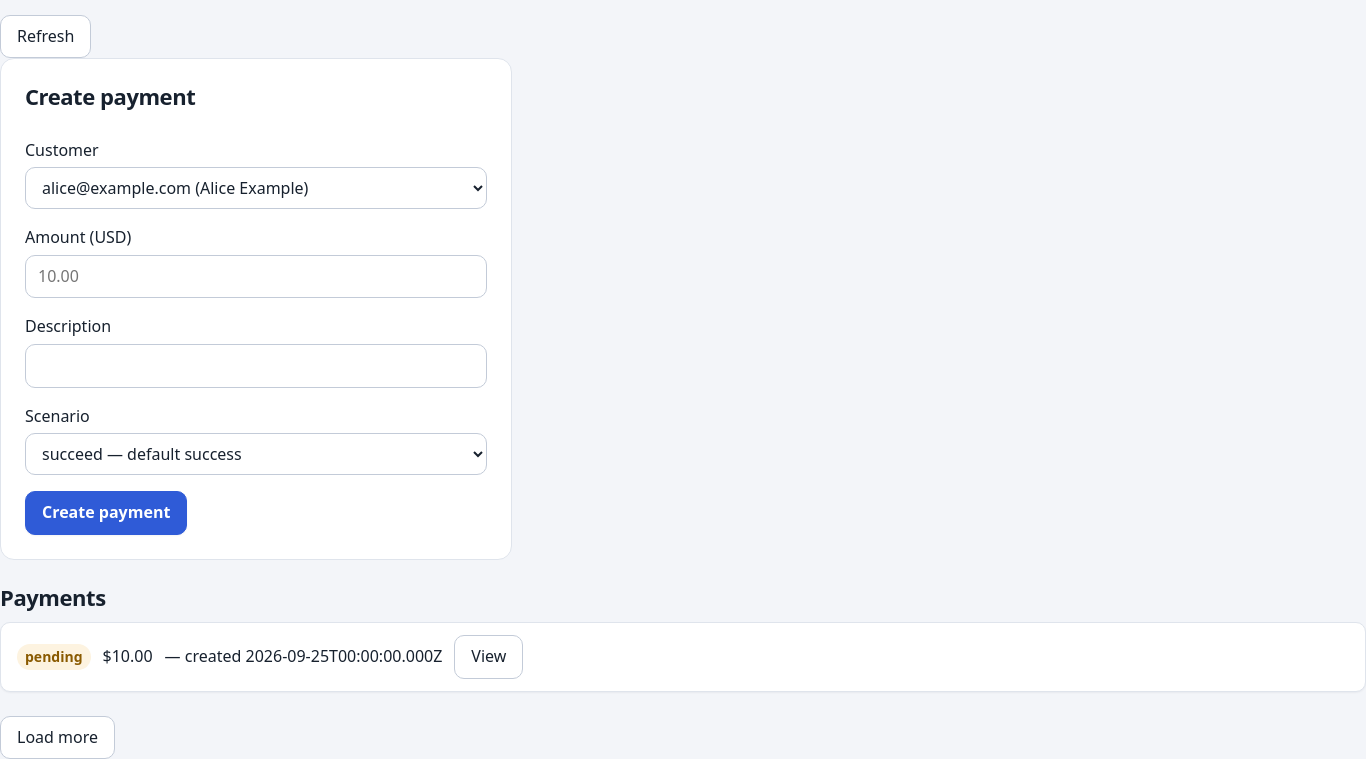
Test: payments page (phase 7 §5.2, D1/D2/D3/D5) › stands the background poll down after "Load more" so appended pages are not collapsed (phase 19 P5)
(page scrolled)
Expected: the text "$10.00" is shown, [102,644,153,670]
Click the button "Load more" at (58, 738), box [0,716,115,758]
Wait 6100 ms
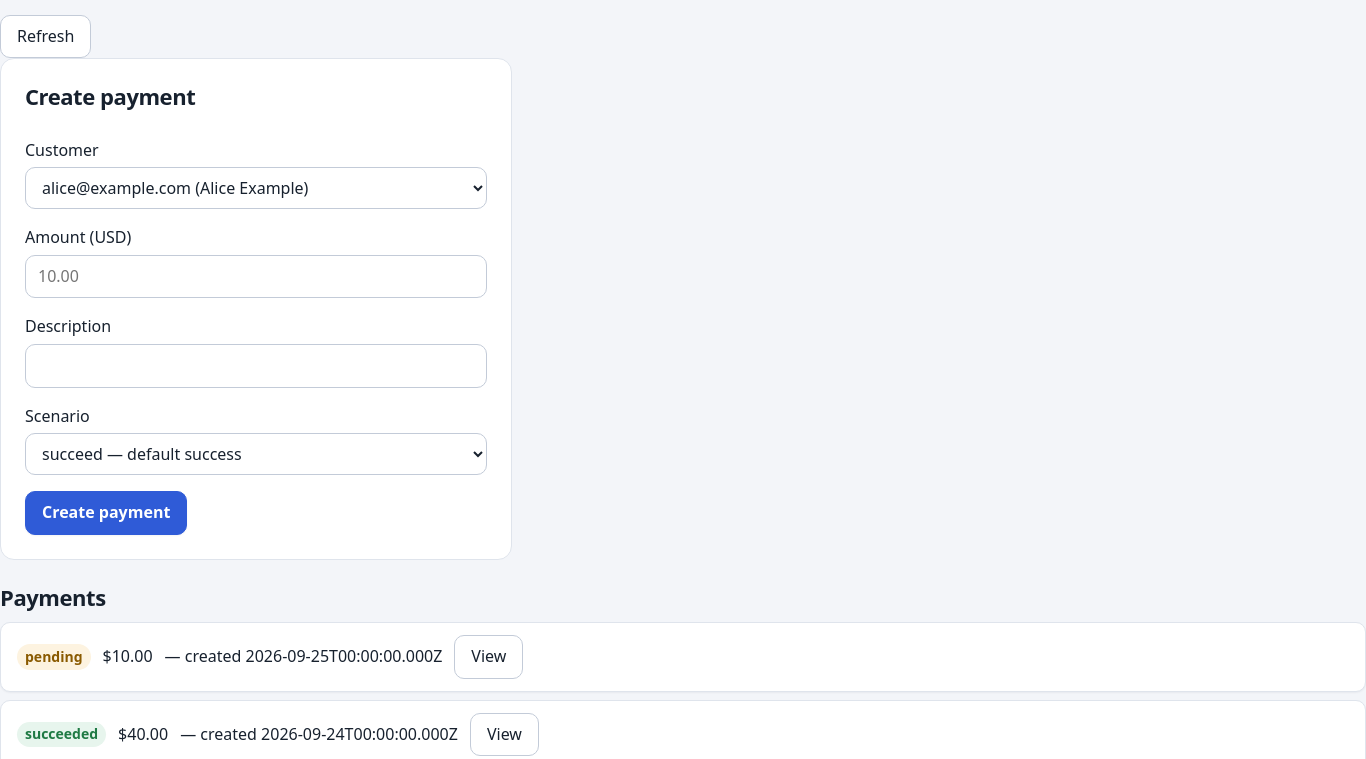
Expected: the text "pending" is shown, [17,644,90,670]
Expected: the text "$40.00" is shown, [118,722,168,747]
A manual Refresh resets the appended state and reloads page 1.
Click the button "Refresh" at (46, 36), box [0,15,91,58]
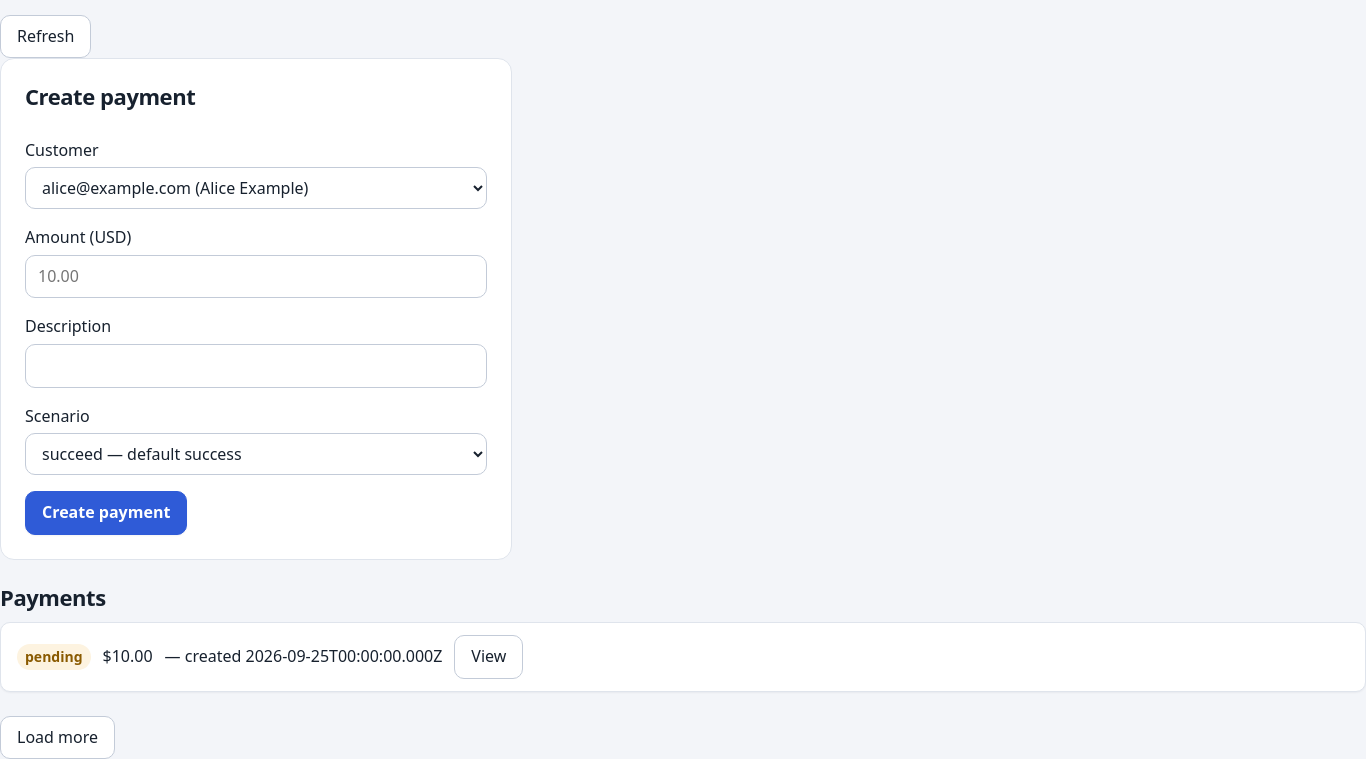
Expected: the text "$40.00" is gone
